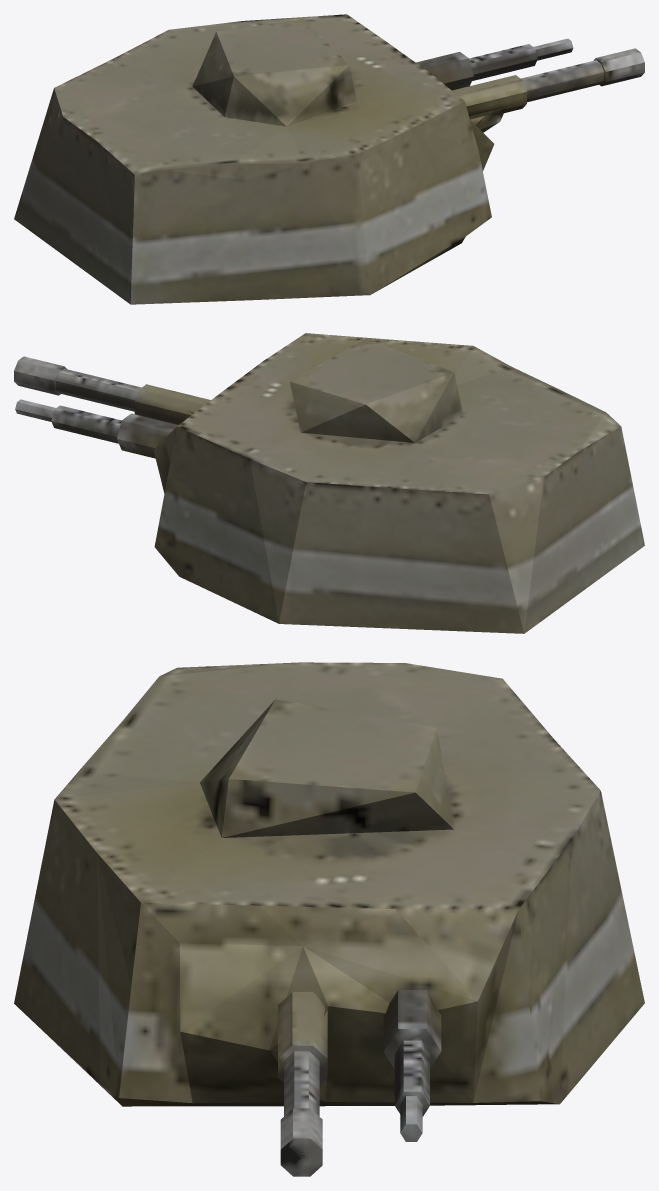
The model's file is turret.obj.
3 renders of one model, top to bottom at view 1: azimuth 30°, elevation 25°; view 2: azimuth 150°, elevation 25°; view 3: azimuth 270°, elevation 25°, orthographic. The views are drawn at different scales.
Size of the model in its own units: 0.5203 by 0.1557 by 0.328.
Materials: 1 (1 with a texture image).
